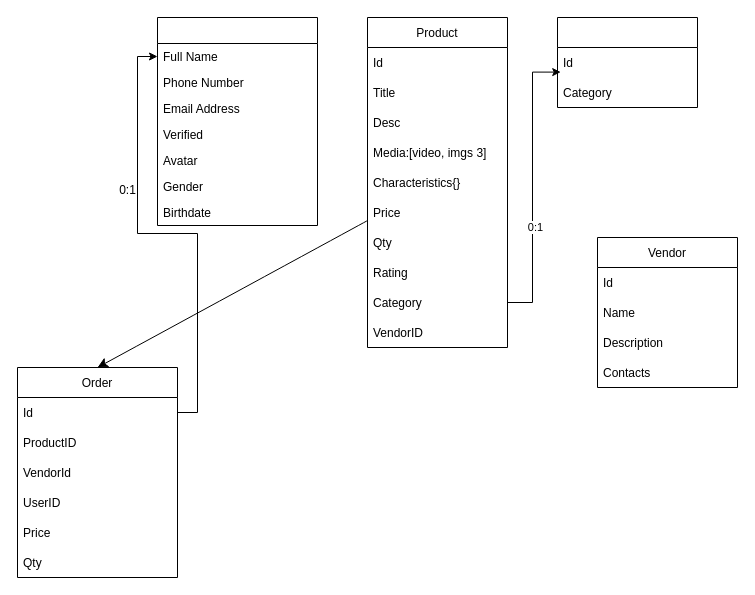
This 755x595 diagram has some shape labels left out. Here are the shapes that lost their labels. From the top down, the box of each, then its label:
(556, 16, 698, 108): Categories
(156, 16, 318, 226): User
